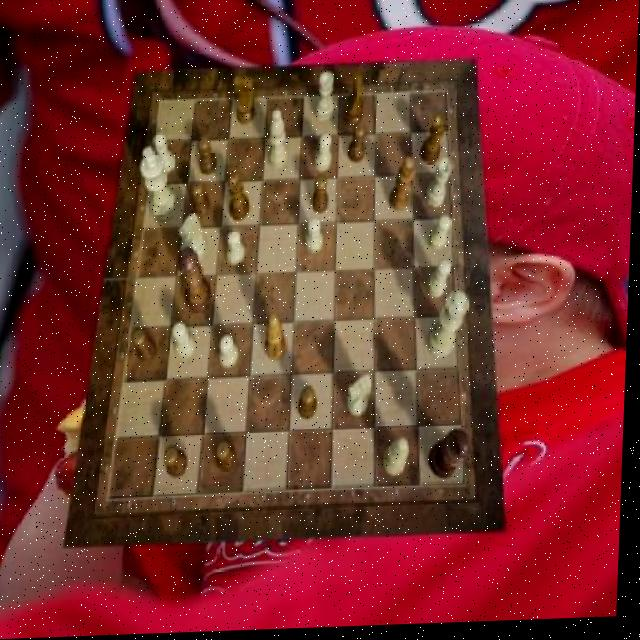bishop: (390, 160, 415, 215), (267, 316, 291, 364)
black-bishop: (432, 432, 474, 484)
black-king: (233, 75, 258, 127), (347, 79, 366, 132)
black-knight: (135, 330, 161, 365), (192, 183, 214, 221), (167, 448, 192, 481), (198, 138, 219, 177), (313, 178, 332, 217), (349, 126, 367, 167), (219, 442, 241, 475), (301, 389, 321, 423)
black-pawn: (177, 249, 215, 316)
black-queen: (421, 118, 448, 168), (229, 176, 253, 224)
black-rook: (270, 111, 292, 172), (386, 440, 413, 478)
white-bishop: (140, 147, 181, 224)
white-king: (180, 214, 211, 264), (351, 376, 376, 420)
white-knight: (155, 135, 179, 177), (174, 323, 199, 361), (429, 262, 453, 300), (429, 219, 453, 254), (223, 336, 244, 370), (228, 231, 248, 266), (316, 136, 334, 174), (308, 220, 326, 256)
white-pawn: (429, 294, 472, 361)
white-queen: (428, 161, 455, 210), (316, 75, 337, 124)
